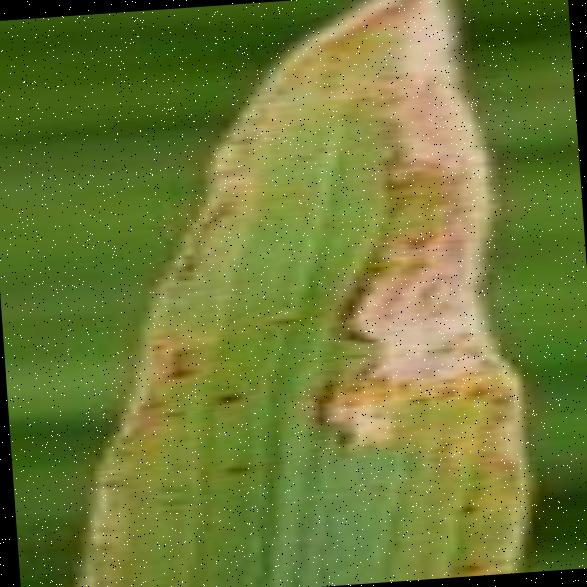Bacteria_Leaf_Blight: (123, 0, 528, 587)
